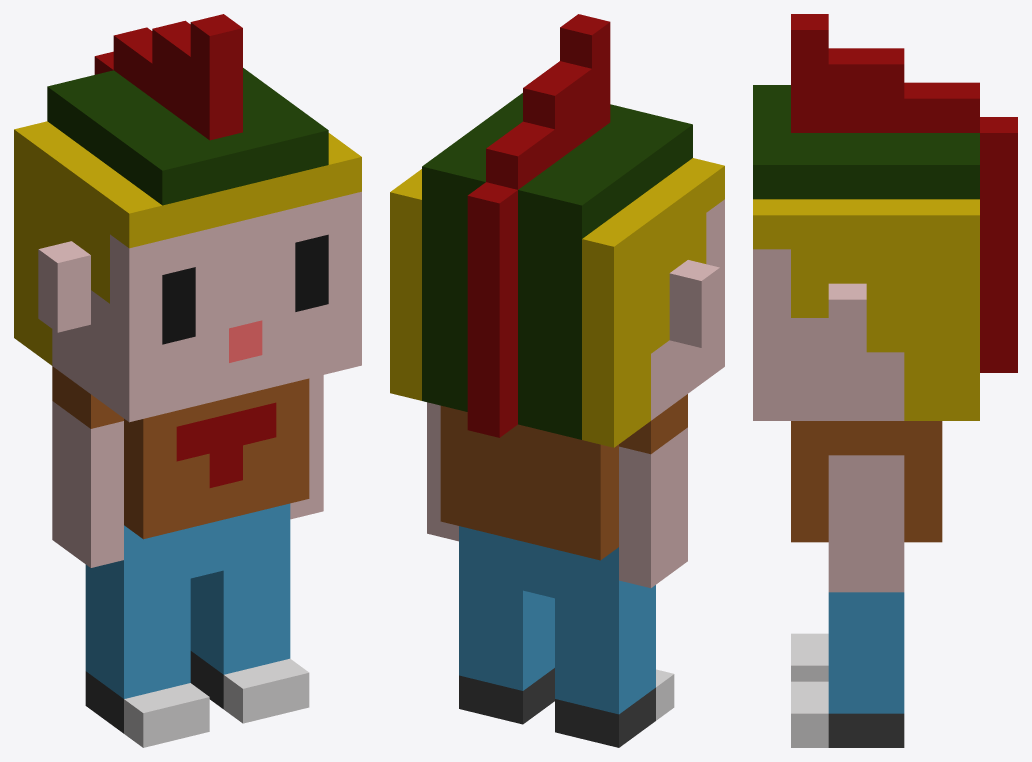
The model's file is lv38 boy.fbx.
3 views of the same model, side by side, from view 1: azimuth 30°, elevation 25°; view 2: azimuth 150°, elevation 25°; view 3: azimuth 270°, elevation 25° (orthographic). The views are drawn at different scales.
Visible parts, largest first — view 1: polySurface3784, polySurface3753, polySurface3758, polySurface3634, polySurface3677, polySurface3605, polySurface3580, polySurface3581, polySurface3630, polySurface3636, polySurface3661, polySurface3685 (+134 smaller); view 2: polySurface3721, polySurface3550, polySurface3758, polySurface3688, polySurface3690, polySurface3677, polySurface3682, polySurface3567, polySurface3788, polySurface3575, polySurface3577, polySurface3624 (+128 smaller); view 3: polySurface3688, polySurface3689, polySurface3614, polySurface3674, polySurface3681, polySurface3683, polySurface3686, polySurface3815, polySurface3680, polySurface3684, polySurface3550, polySurface3568 (+87 smaller).
Part boxes in pixels (x1,y1,x2,y2): polySurface3784: (223, 667, 276, 723); polySurface3753: (143, 148, 195, 205); polySurface3758: (38, 241, 90, 297); polySurface3634: (110, 191, 162, 248); polySurface3677: (190, 14, 242, 70); polySurface3605: (124, 691, 176, 747); polySurface3580: (105, 650, 157, 698); polySurface3581: (204, 626, 256, 674); polySurface3630: (110, 269, 162, 317); polySurface3636: (110, 234, 162, 282); polySurface3661: (190, 92, 242, 140); polySurface3685: (190, 57, 242, 105); polySurface3721: (550, 184, 600, 238); polySurface3550: (486, 135, 536, 189); polySurface3758: (669, 260, 719, 314); polySurface3688: (523, 74, 573, 129); polySurface3690: (467, 182, 517, 236); polySurface3677: (560, 14, 610, 68); polySurface3682: (582, 225, 632, 280); polySurface3567: (619, 541, 669, 588); polySurface3788: (619, 474, 669, 521); polySurface3575: (587, 667, 637, 714); polySurface3577: (491, 644, 541, 690); polySurface3624: (587, 600, 637, 647); polySurface3688: (866, 48, 904, 98); polySurface3689: (828, 48, 866, 98); polySurface3614: (904, 199, 942, 249); polySurface3674: (828, 283, 866, 333); polySurface3681: (828, 149, 866, 199); polySurface3683: (828, 199, 866, 249); polySurface3686: (904, 82, 942, 132); polySurface3815: (904, 149, 942, 199); polySurface3680: (866, 149, 904, 199); polySurface3684: (866, 199, 904, 249); polySurface3550: (942, 82, 979, 132); polySurface3568: (791, 697, 828, 747).
Size of the model in its own units: 9 by 20 by 7.
